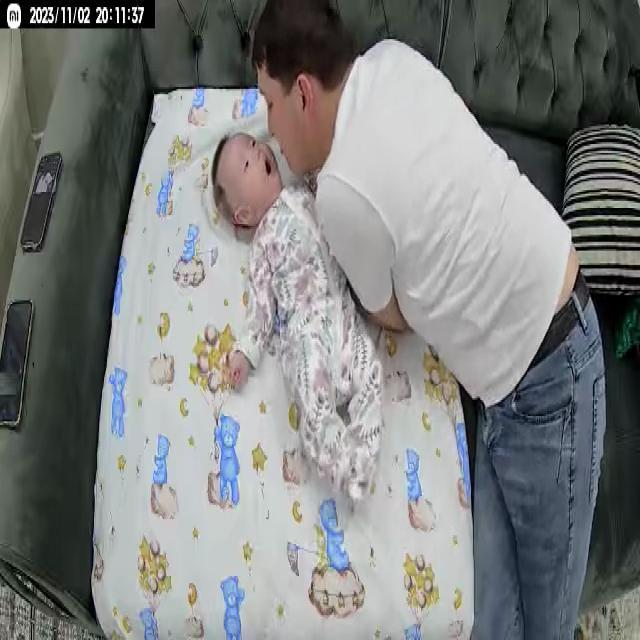baby: (208, 124, 384, 516)
